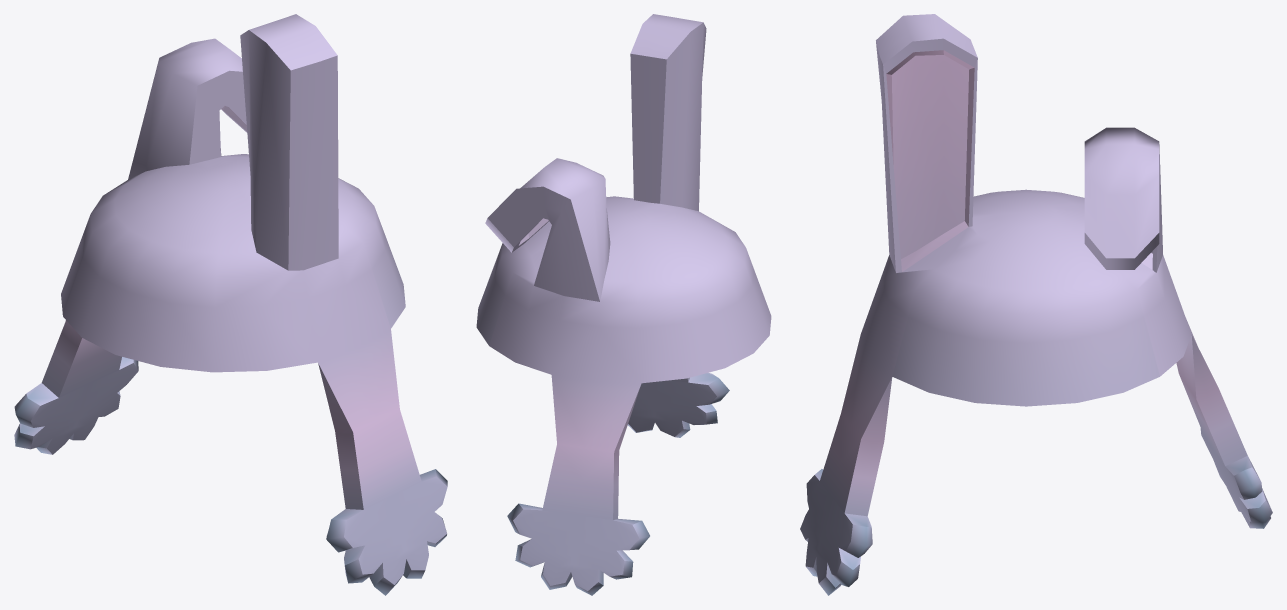
The model's file is Bunny.fbx.
The picture shows the model from 3 angles, left to right: view 1: azimuth 30°, elevation 25°; view 2: azimuth 150°, elevation 25°; view 3: azimuth 270°, elevation 25°; orthographic projection. The views are drawn at different scales.
Parts seen in each view (by area): view 1: Bunny; view 2: Bunny; view 3: Bunny.
Part boxes in pixels (left/top/right/bottom): Bunny: left=14, top=14, right=447, bottom=595; Bunny: left=476, top=14, right=771, bottom=595; Bunny: left=800, top=14, right=1272, bottom=595.
Bounding box in the file's own units: 252 × 428 × 349.
1 material, 1 textured.
